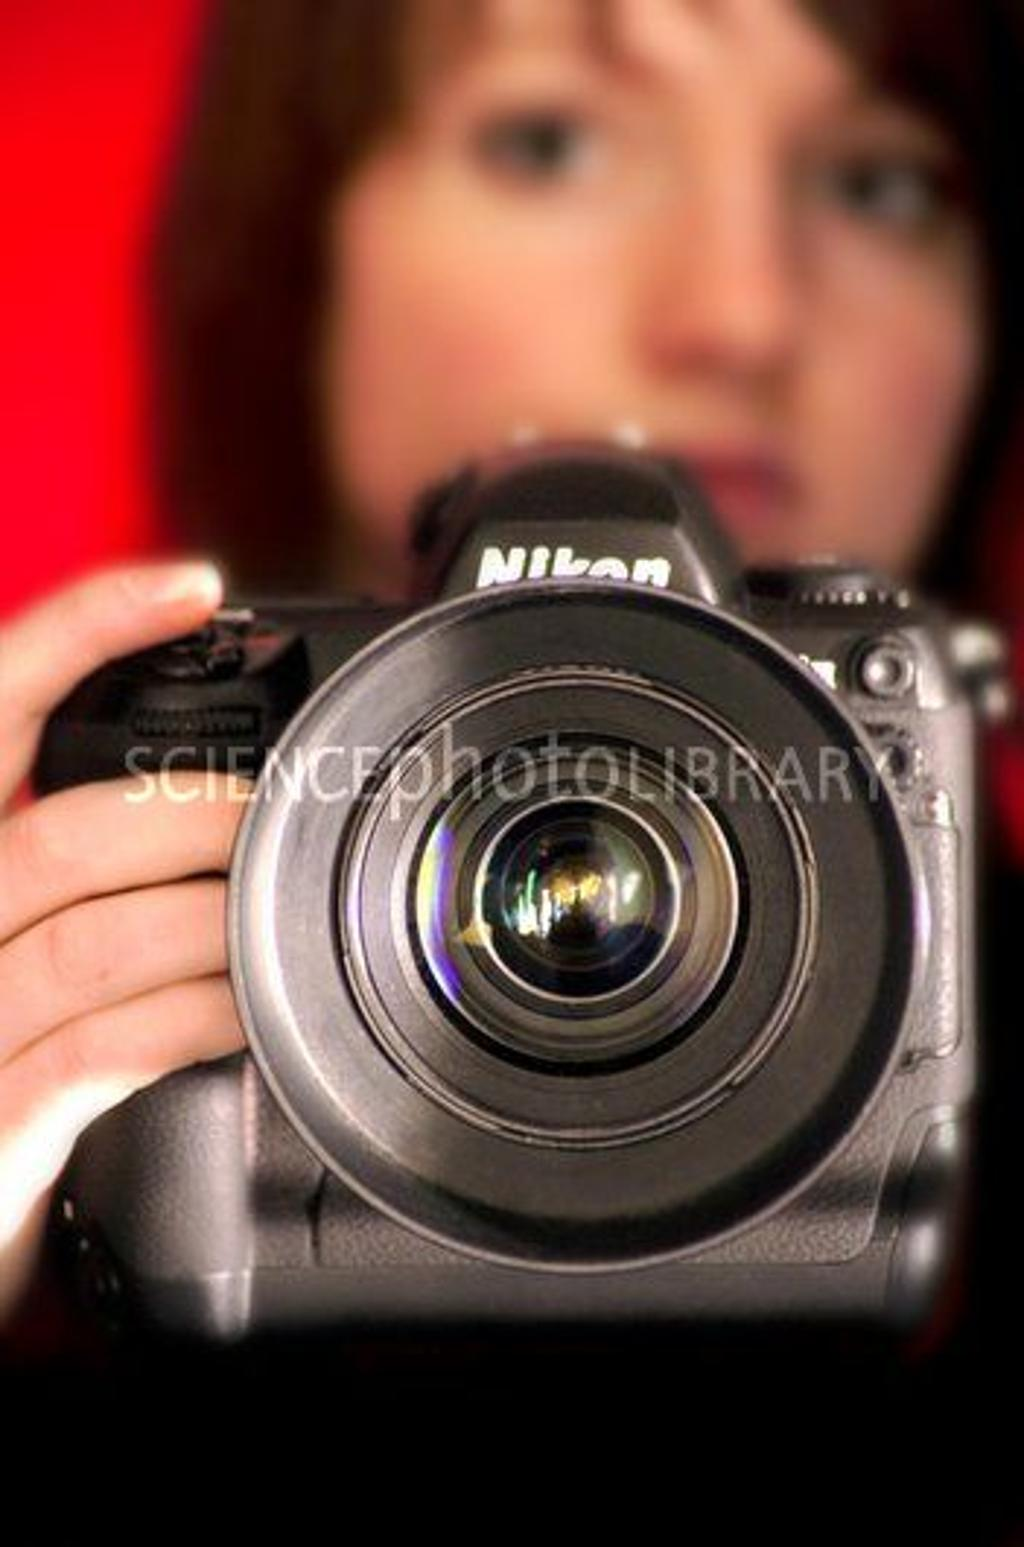face: (375, 9, 961, 646)
